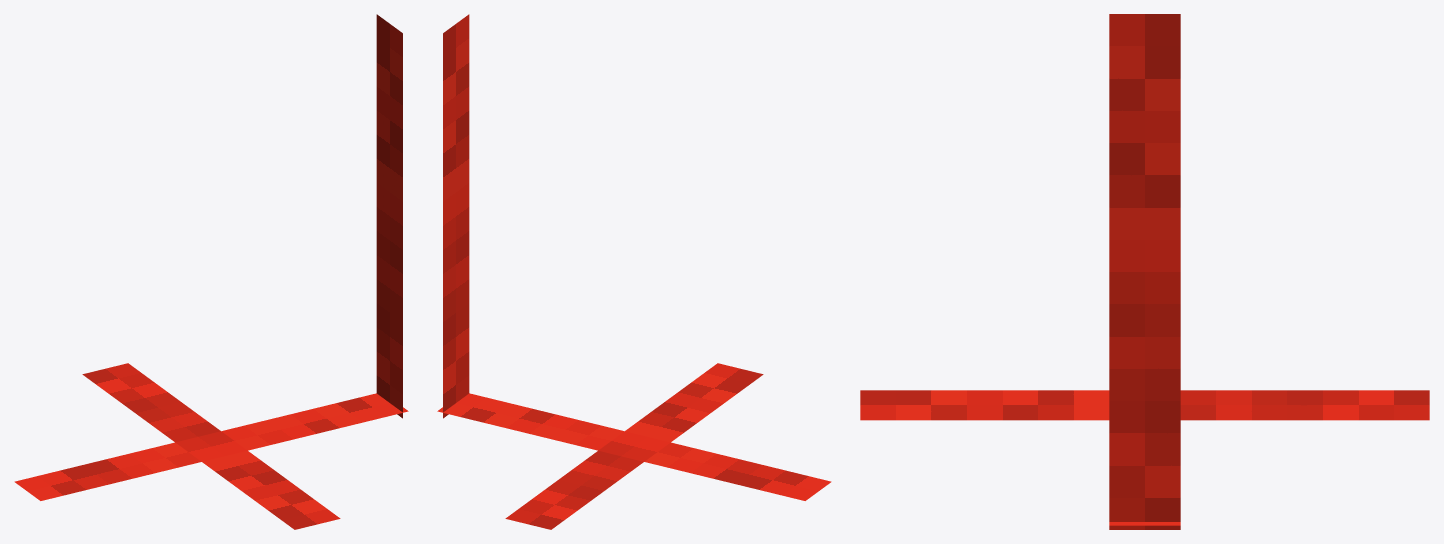
File: dust_on_2111.gltf
3 views of the same model, side by side, from view 1: azimuth 30°, elevation 25°; view 2: azimuth 150°, elevation 25°; view 3: azimuth 270°, elevation 25° (orthographic). The views are drawn at different scales.
Parts seen in each view (by area): view 1: dust_on_2111; view 2: dust_on_2111; view 3: dust_on_2111.
Boxes of the visible parts, x1=… form: dust_on_2111: x1=14, y1=14, x2=408, y2=529; dust_on_2111: x1=437, y1=14, x2=831, y2=529; dust_on_2111: x1=860, y1=14, x2=1429, y2=529.
Size of the model in its own units: 1 by 1 by 1.
1 material, 1 textured.
